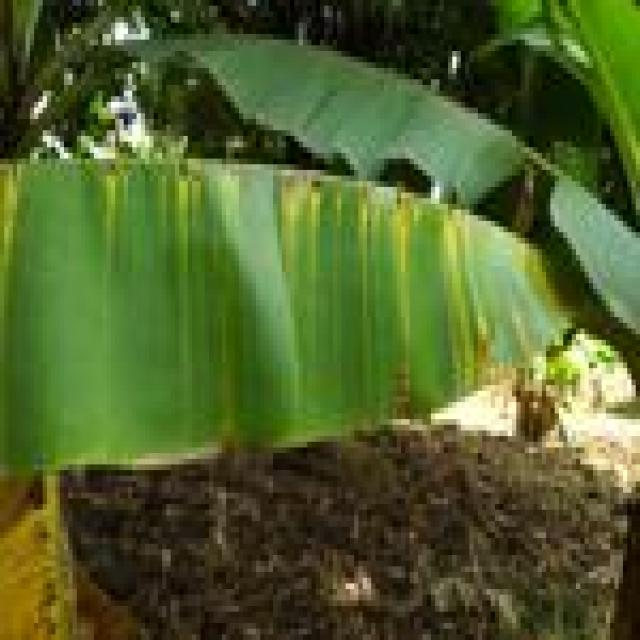Early_rust: (0, 130, 576, 430), (0, 463, 125, 640)
